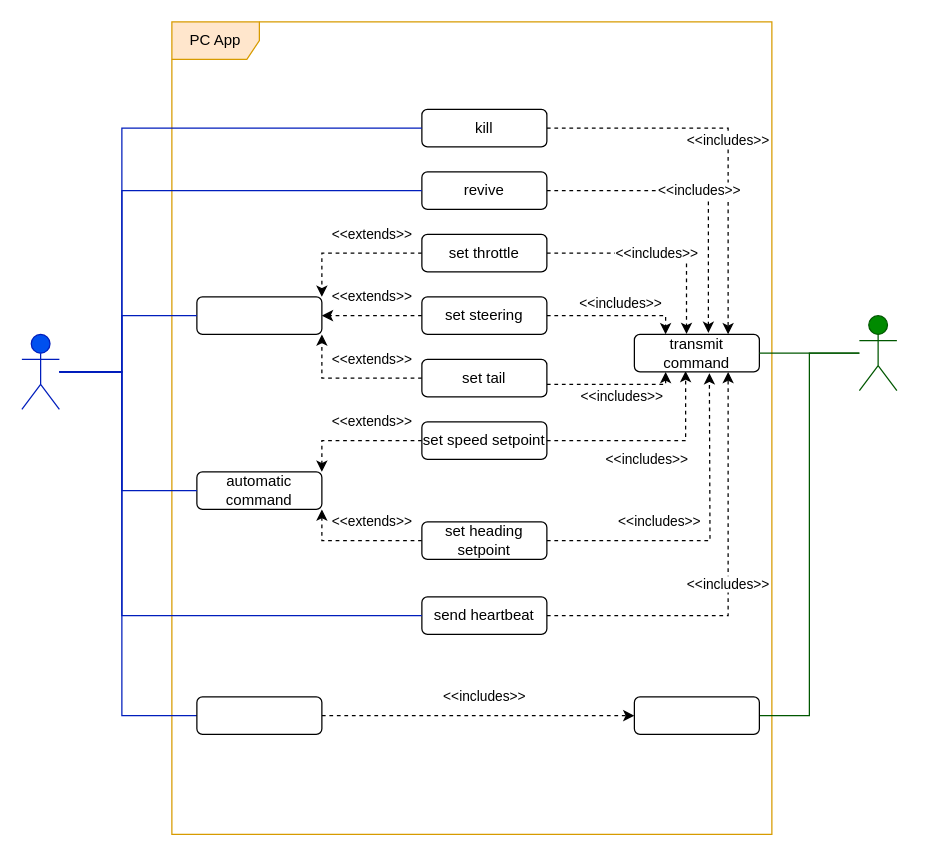
The diagram is 939 pixels wide and 856 high, and some of its shapes have lost their labels. Here are the shapes that lost their labels. From the top down, the centre of each, then its label:
At point (259, 315): "manual command".
At point (40, 371): "user".
At point (877, 352): "jetson nano".
At point (259, 715): "view onboard data".
At point (696, 715): "rx data".
